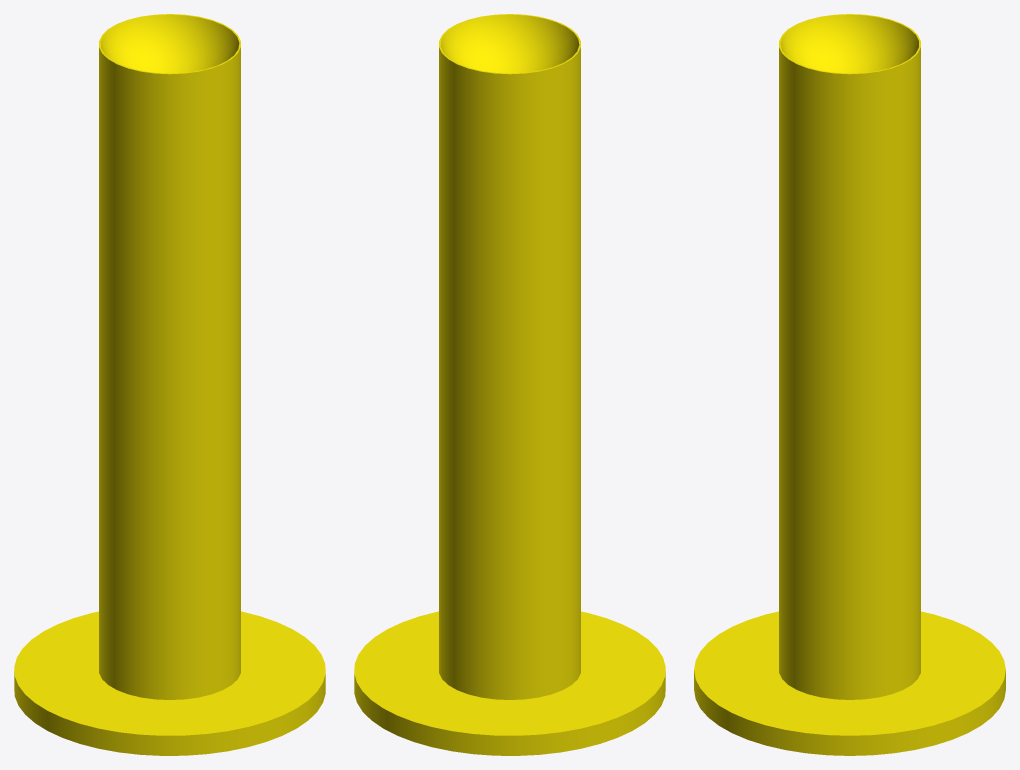
Rendered from bump-flare-yellow.obj.
3 views of the same model, side by side, from view 1: azimuth 30°, elevation 25°; view 2: azimuth 150°, elevation 25°; view 3: azimuth 270°, elevation 25° (orthographic).
Parts seen in each view (by area): view 1: Entity2geometry; view 2: Entity2geometry; view 3: Entity2geometry.
Boxes of the visible parts, x1,y1,x2,y2 form: Entity2geometry: (14,14,325,755); Entity2geometry: (354,14,665,755); Entity2geometry: (694,14,1005,755).
Size of the model in its own units: 35 by 80 by 35.
